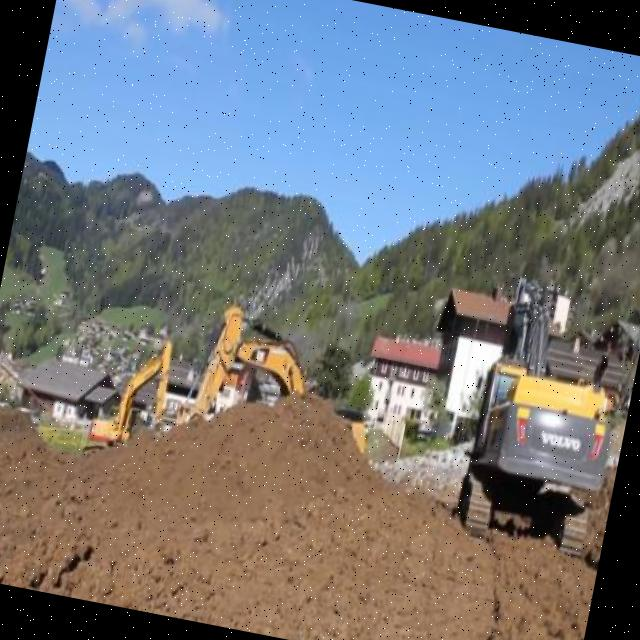Excavator: (448, 269, 640, 562), (173, 294, 390, 460), (28, 315, 180, 464)
